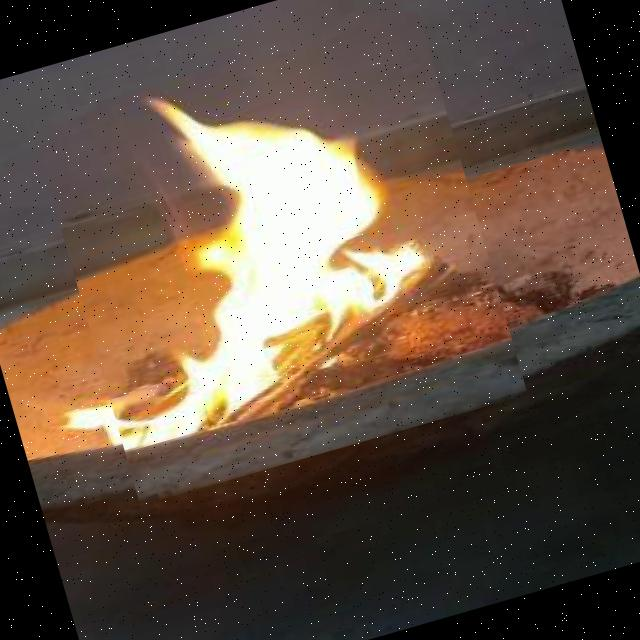fire: (30, 9, 528, 505)
